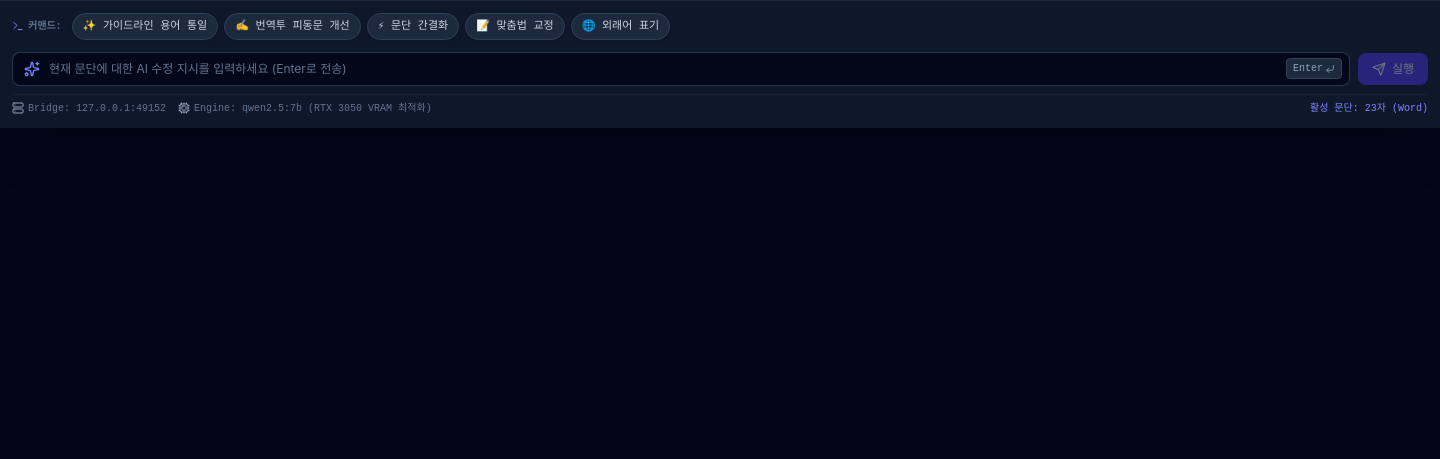
Test: AICommandBar Component › performs Action-First text replacement when clicking [즉시 반영]
# Submit prompt
Type "용어 표준화" into the field with test id "ai-command-input" at {"x": 681, "y": 68}, box [12,52,1350,86]
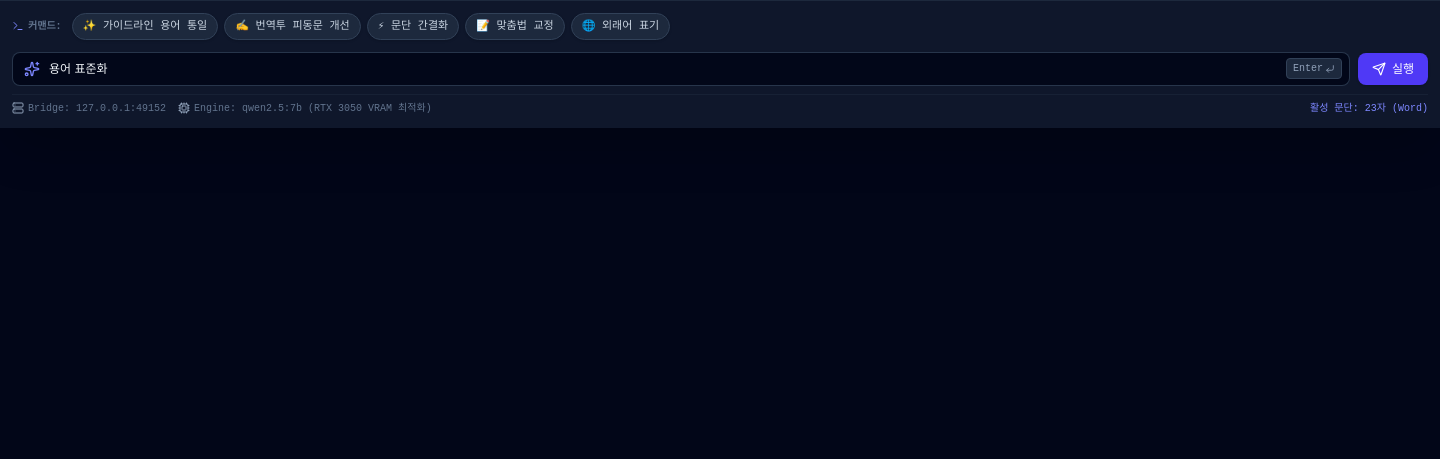
Click the button with test id "ai-command-submit-btn" at {"x": 1393, "y": 68}, box [1358,52,1428,84]
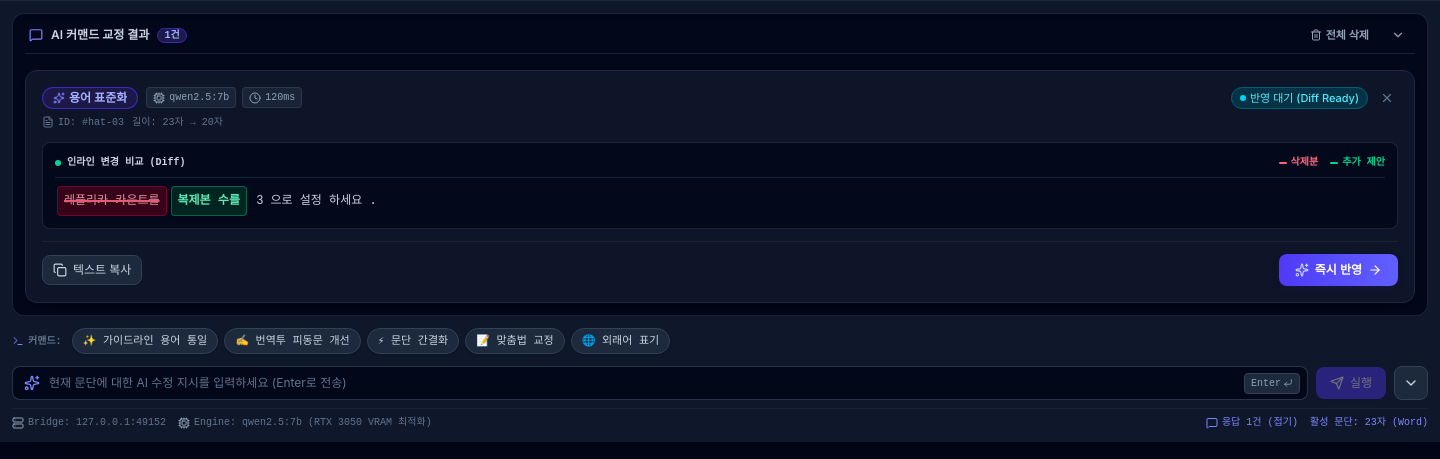
Now the button with test id "apply-diff-btn" is shown
Now the button with test id "apply-diff-btn" reads "즉시 반영"
# Click Action-First [즉시 반영] button
Click the button with test id "apply-diff-btn" at {"x": 1338, "y": 270}, box [1279,254,1398,286]
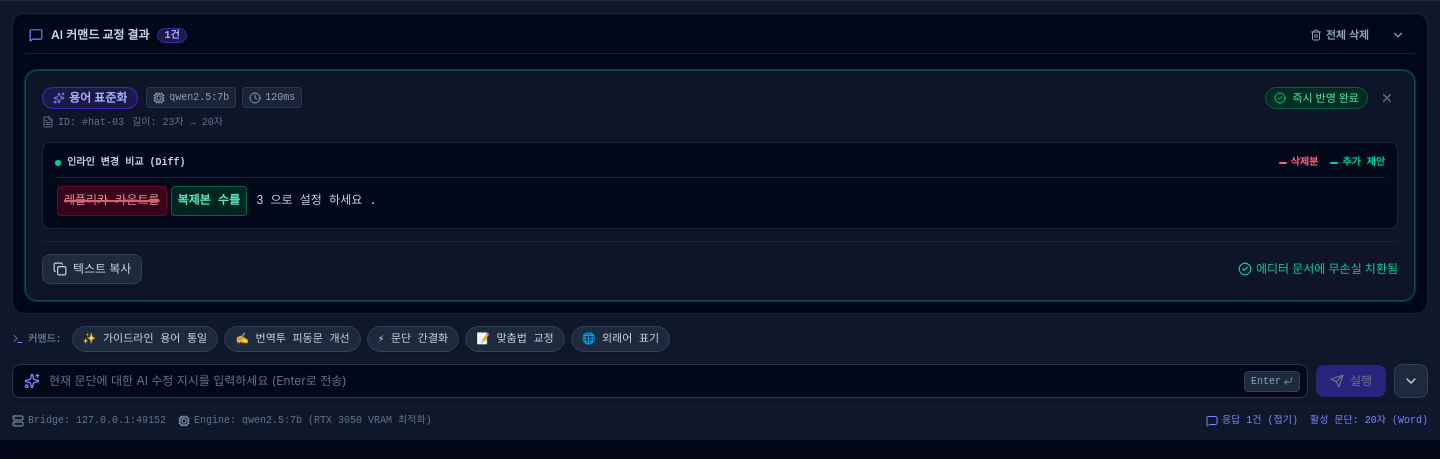
Now the element with test id "card-status-applied" reads "즉시 반영 완료", box [1292,91,1359,105]
